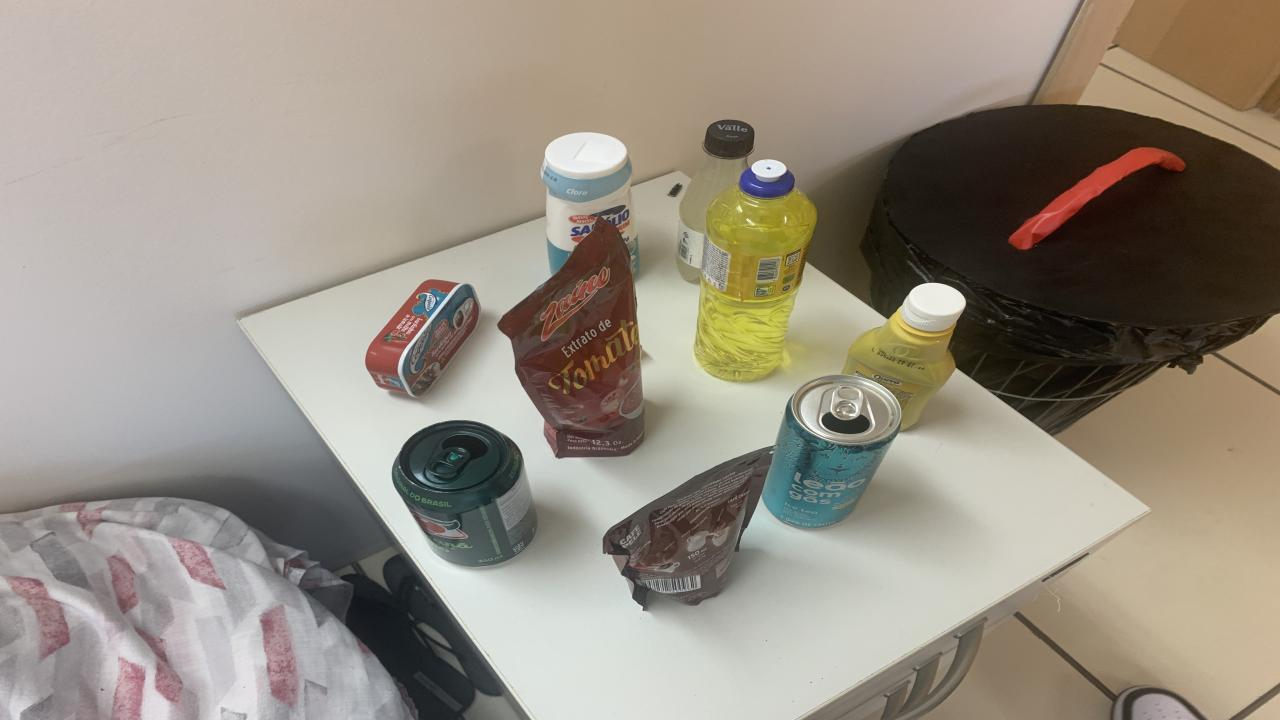Cleaner-Cleanup_Items: (542, 131, 638, 276)
Coffee-Pantry_Items: (602, 446, 775, 608)
Detergent-Cleanup_Items: (695, 159, 818, 381)
Guarana_Can-Drinks: (392, 420, 538, 566)
Mustard-Pantry_Items: (842, 283, 965, 429)
Soda-Drinks: (678, 120, 755, 283)
Tea-Drinks: (762, 375, 902, 529)
Tomato_Sauce-Pantry_Items: (500, 221, 645, 458)
Tuna_Can-Pantry_Items: (365, 279, 480, 398)
